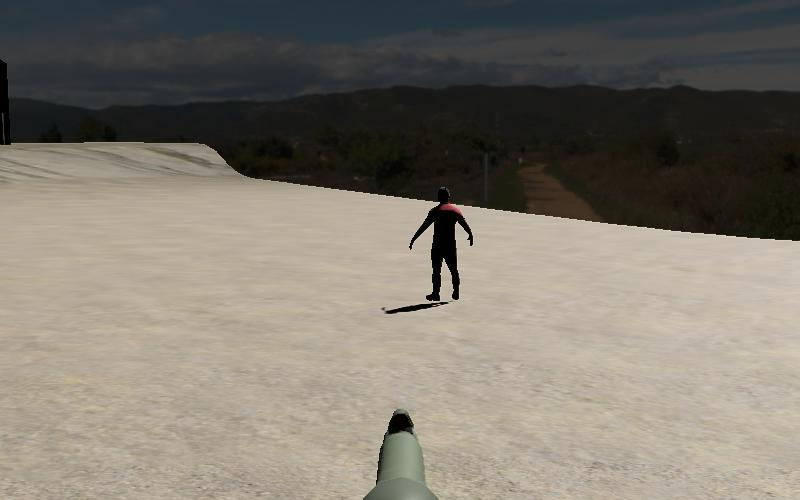Human: (406, 182, 478, 308)
